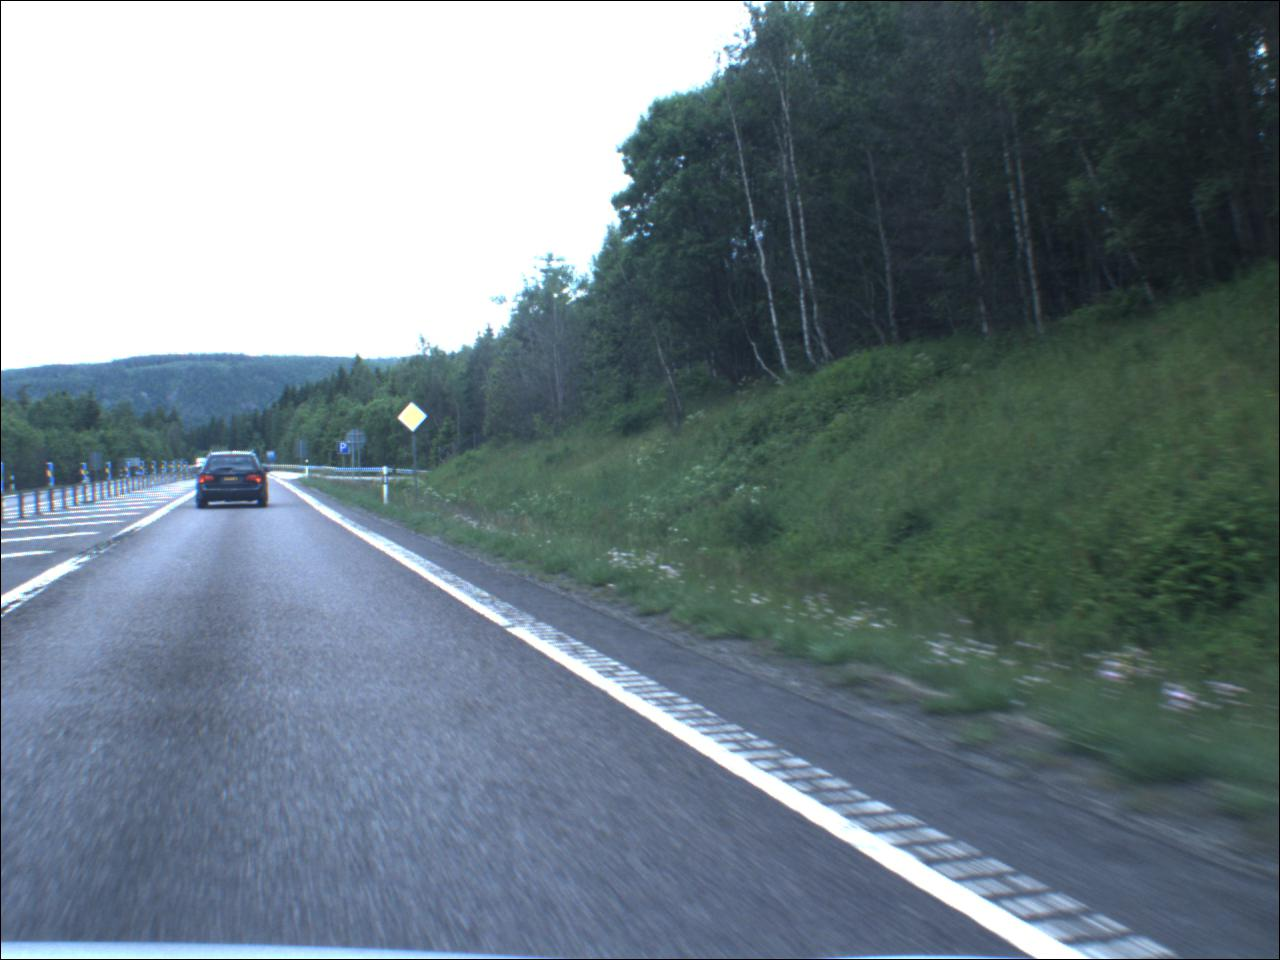PRIORITY_ROAD: (400, 402, 432, 435)
